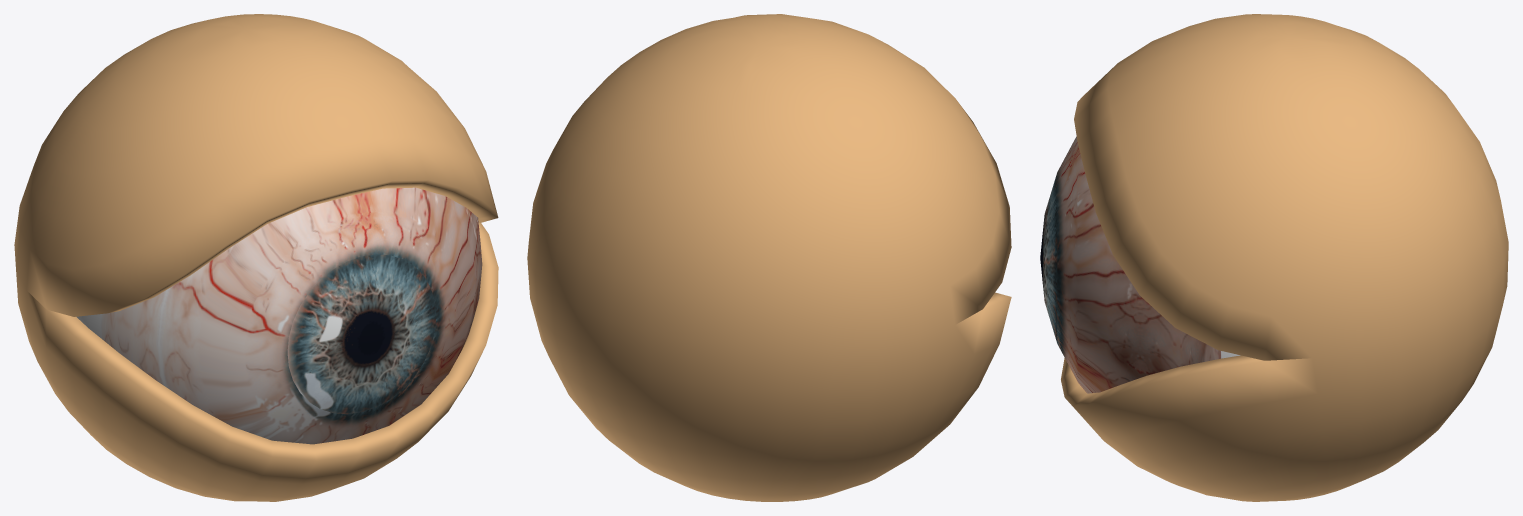
Rendered from eyeball.fbx.
3 renders of one model, left to right at view 1: azimuth 30°, elevation 25°; view 2: azimuth 150°, elevation 25°; view 3: azimuth 270°, elevation 25°, orthographic.
Visible parts, largest first — view 1: lid, eye, eye.001; view 2: lid; view 3: lid, eye, eye.001.
Boxes of the visible parts, bbox=[...] form: lid: bbox=[14, 14, 498, 501]; eye: bbox=[76, 187, 482, 444]; eye.001: bbox=[287, 254, 436, 414]; lid: bbox=[527, 14, 1011, 501]; lid: bbox=[1061, 14, 1508, 501]; eye: bbox=[1057, 136, 1240, 393]; eye.001: bbox=[1040, 173, 1057, 342].
Size of the model in its own units: 207 by 207 by 198.
1 material, 1 textured.
